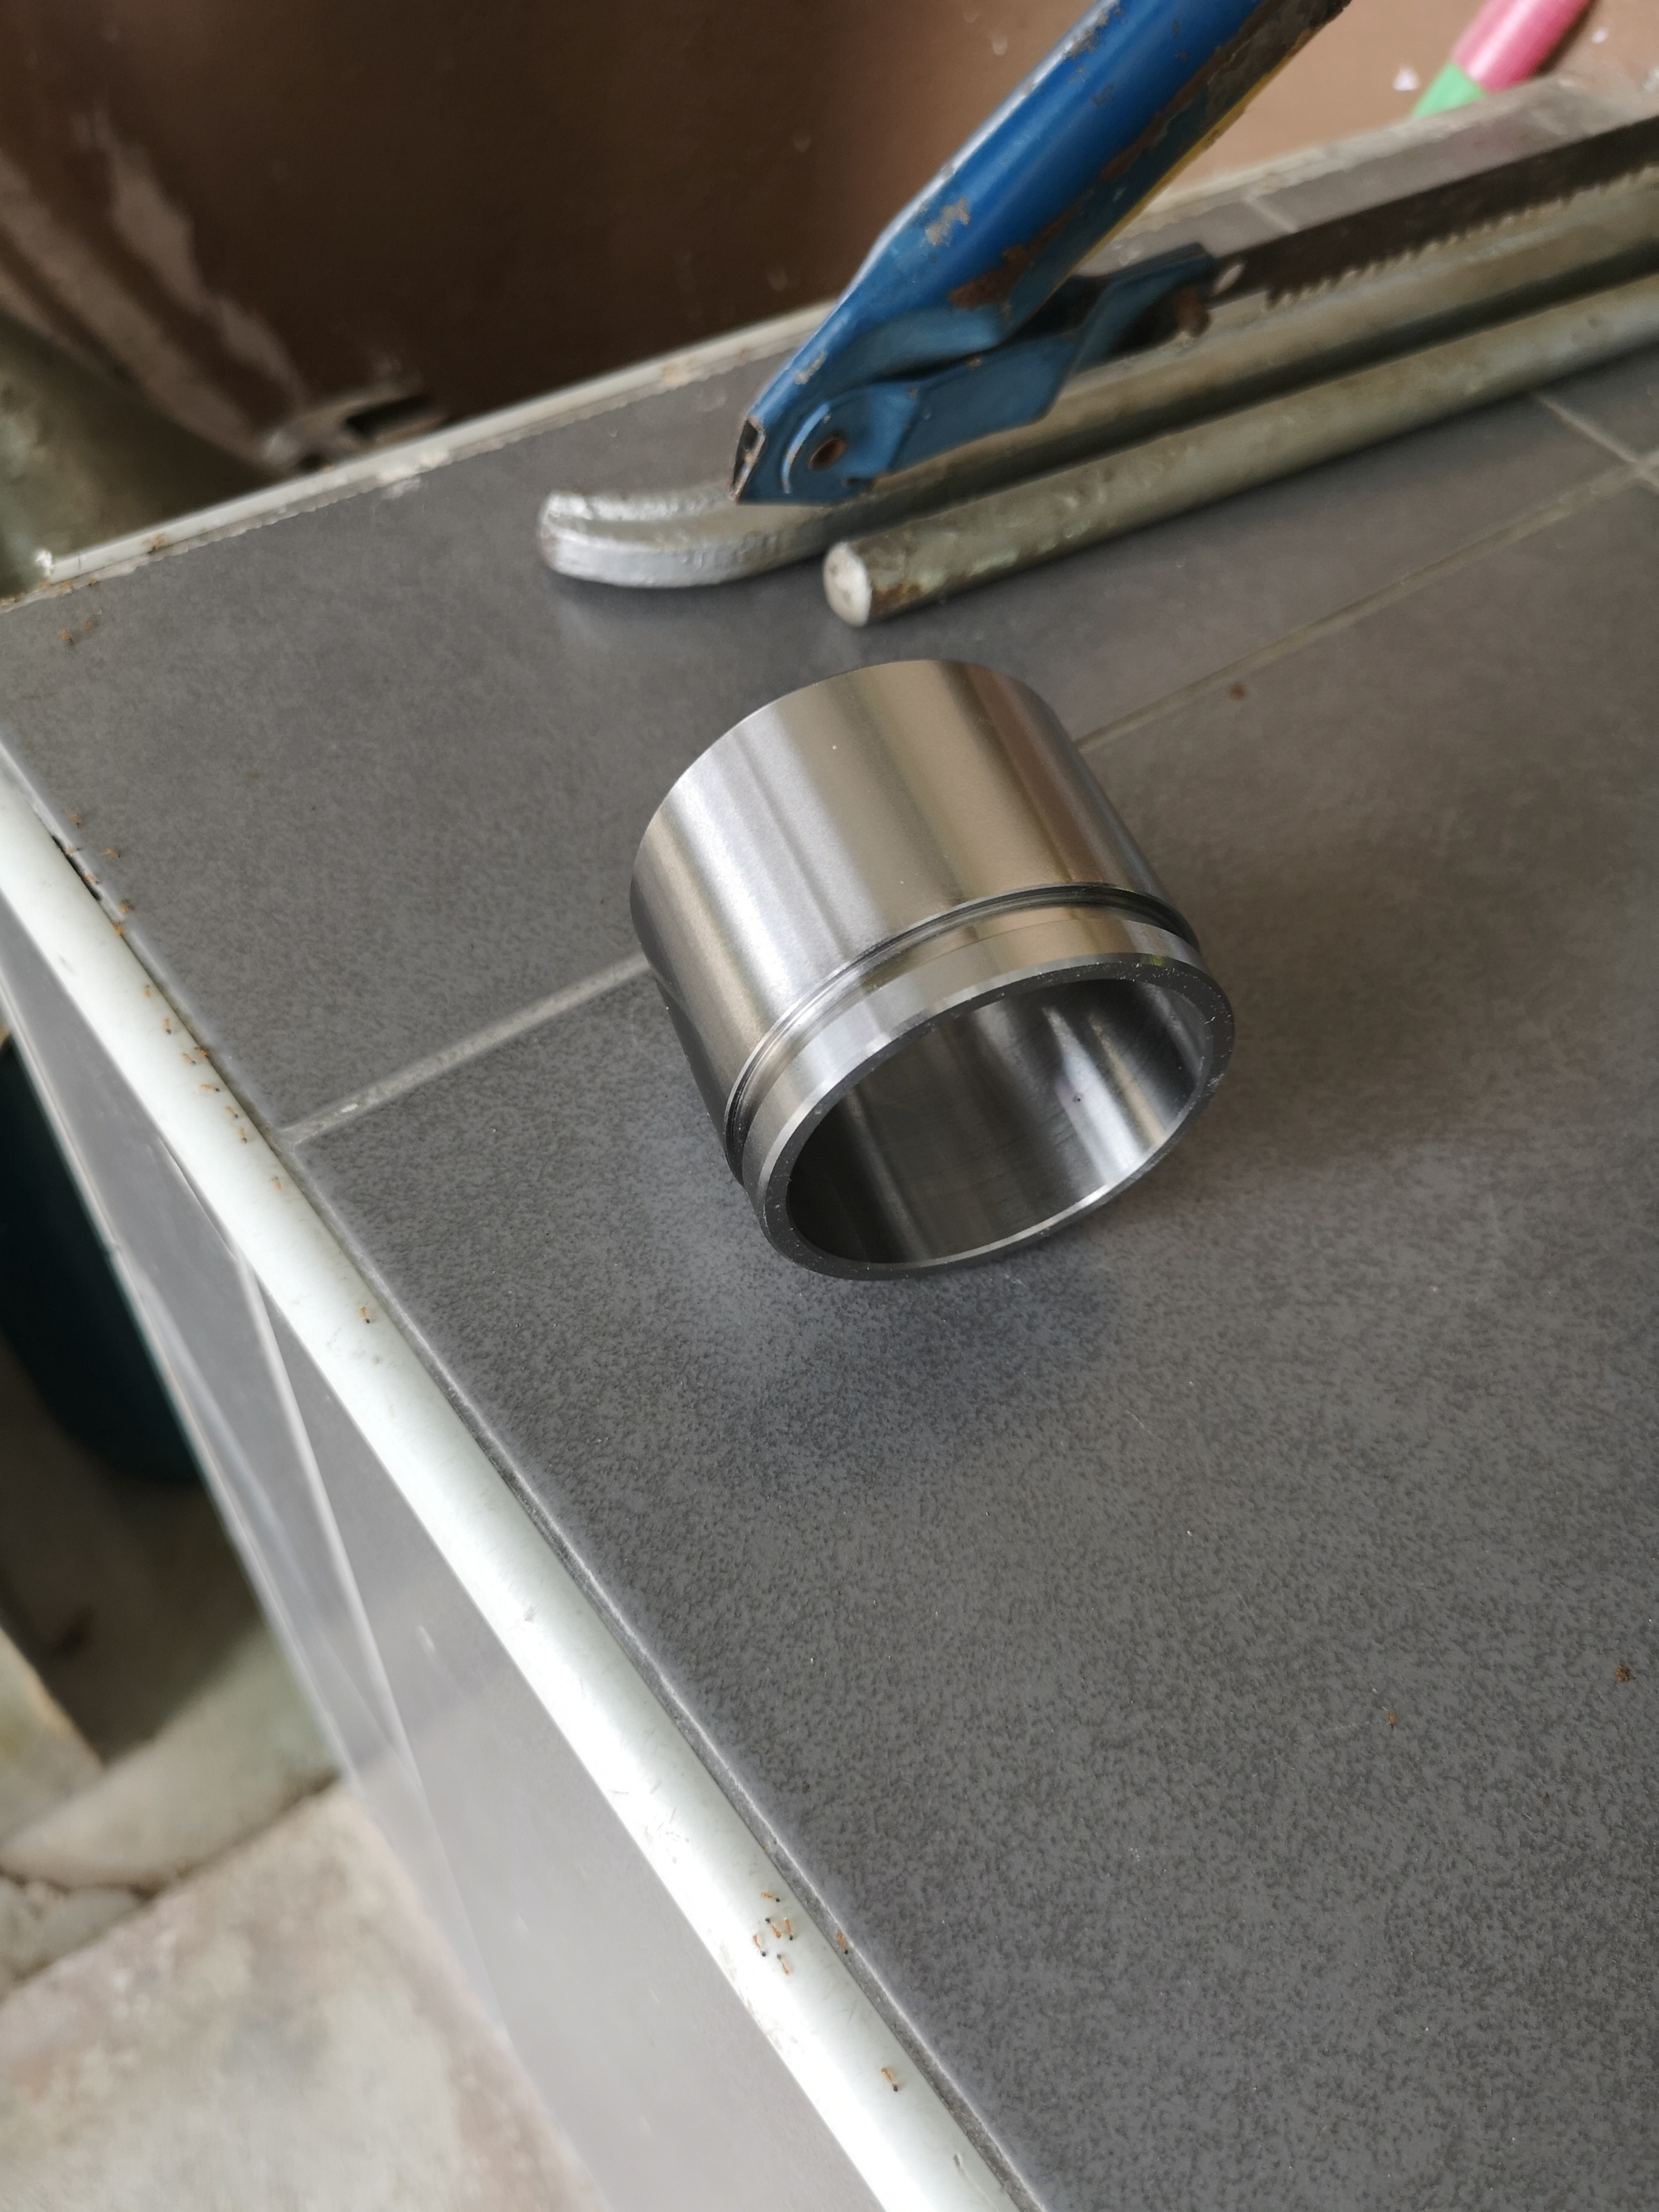ลูกสูบดิสเบรค: (544, 631, 1274, 1341)
